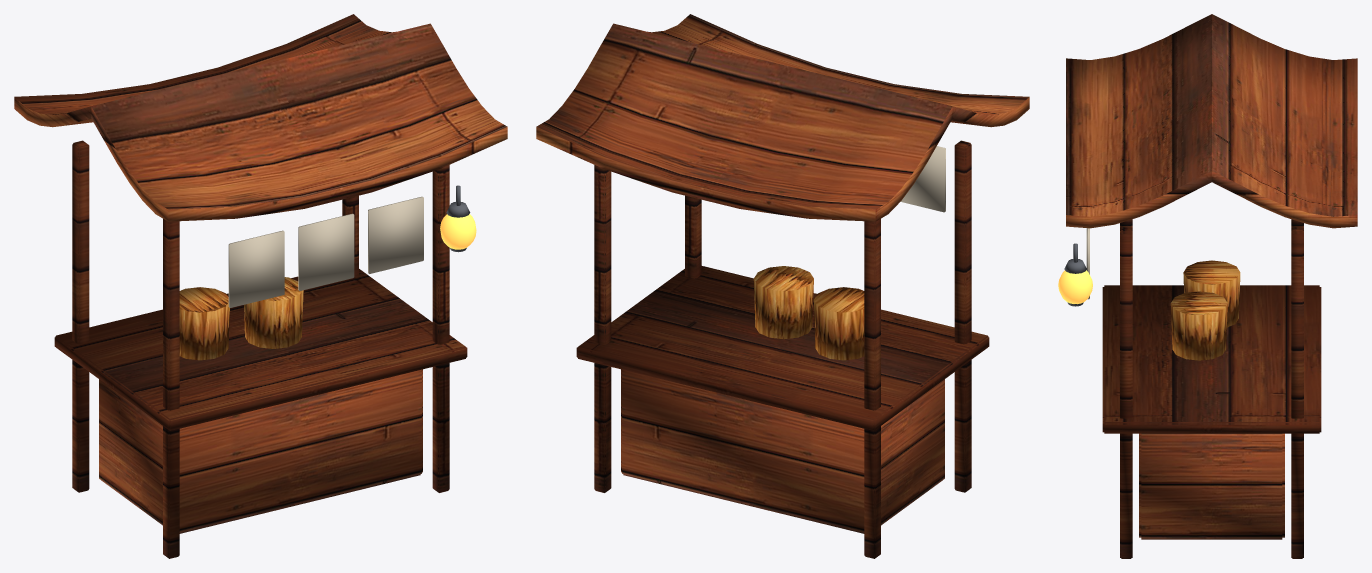
Rendered from yatai_stall_v3.glb.
3 renders of one model, left to right at view 1: azimuth 30°, elevation 25°; view 2: azimuth 150°, elevation 25°; view 3: azimuth 270°, elevation 25°, orthographic. The views are drawn at different scales.
Parts seen in each view (by area): view 1: yatai_cedar, yatai_charred, yatai_cloth, yatai_wares, yatai_chochin; view 2: yatai_cedar, yatai_charred, yatai_wares, yatai_cloth; view 3: yatai_cedar, yatai_charred, yatai_wares, yatai_chochin, yatai_iron.
Boxes of the visible parts, box(x1,y1,x2,y2) form: yatai_cedar: box(14, 14, 507, 533); yatai_charred: box(54, 140, 467, 558); yatai_cloth: box(228, 196, 423, 307); yatai_wares: box(179, 277, 303, 360); yatai_chochin: box(440, 214, 476, 249); yatai_cedar: box(536, 14, 1029, 533); yatai_charred: box(576, 140, 989, 558); yatai_wares: box(753, 266, 864, 360); yatai_cloth: box(900, 146, 945, 212); yatai_cedar: box(1066, 14, 1357, 539); yatai_charred: box(1102, 219, 1321, 558); yatai_wares: box(1170, 260, 1240, 360); yatai_chochin: box(1058, 270, 1092, 304); yatai_iron: box(1064, 243, 1086, 306).
Bounding box in the file's own units: 2.34 × 2.8 × 1.89.
6 materials, 3 textured.
